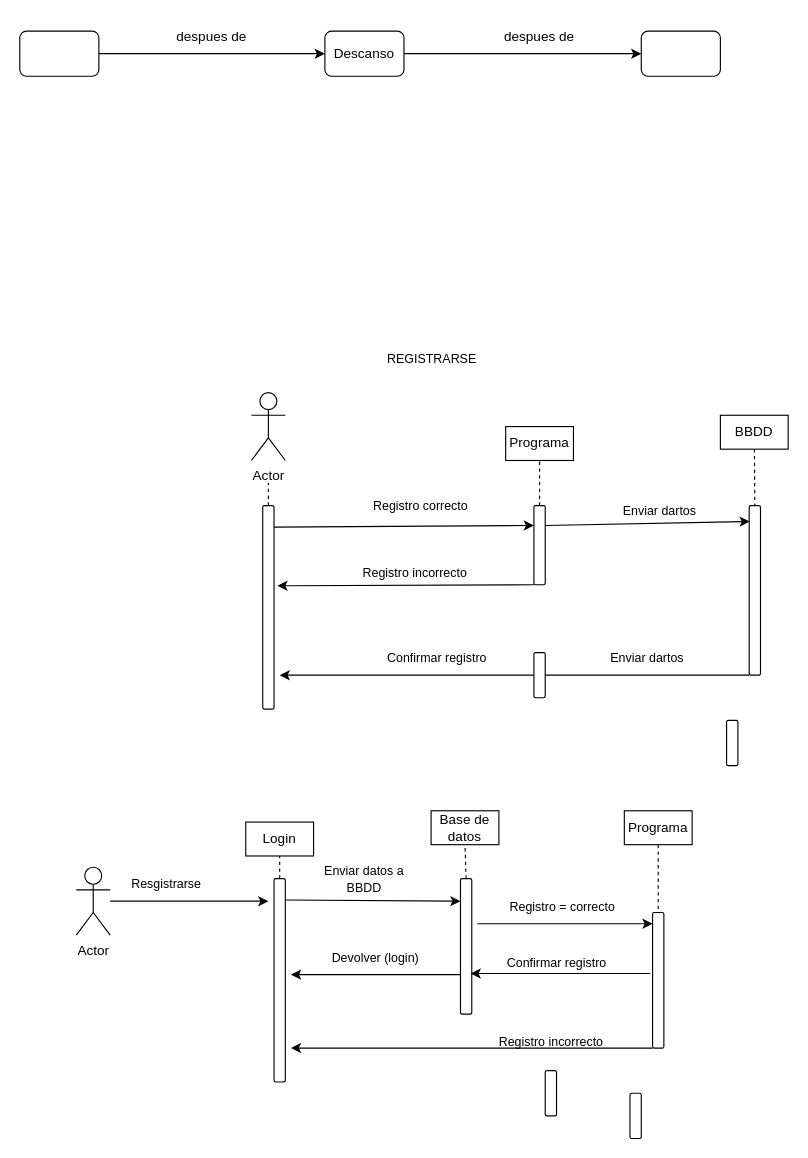
Some shapes in this 808 by 1158 pixel diagram are drawn without their labels. Here are the shapes that lost their labels. From the top down, the centre of each, then its label:
At (59,53): "Inicio".
At (680,53): "Final".
